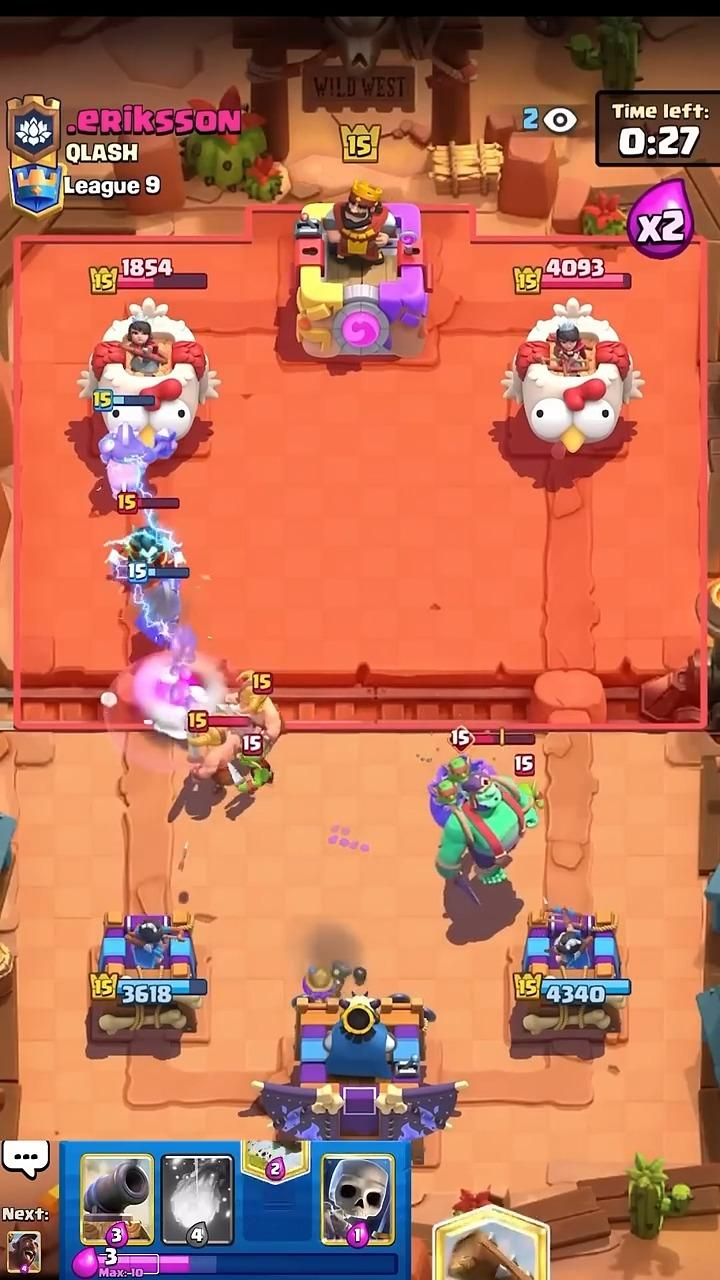electro wizard: (106, 520, 184, 568)
elite barbarians: (228, 672, 281, 746), (190, 730, 239, 780)
goblin: (229, 752, 272, 794)
goblin giant: (431, 755, 538, 887)
hog rider: (99, 414, 175, 499)
musketeer: (303, 961, 365, 999)
